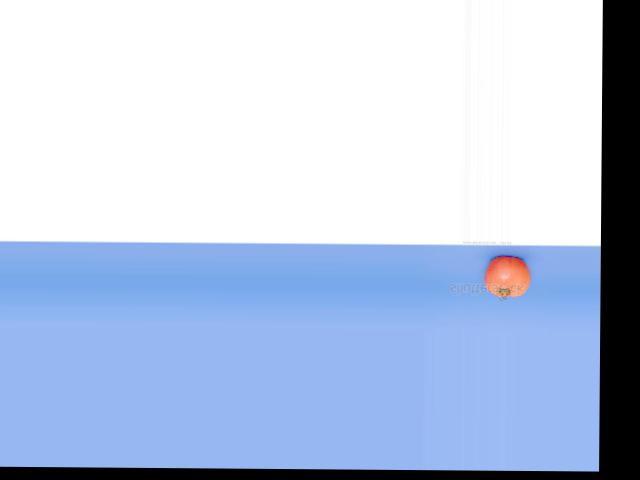tomato: (485, 256, 532, 297)
